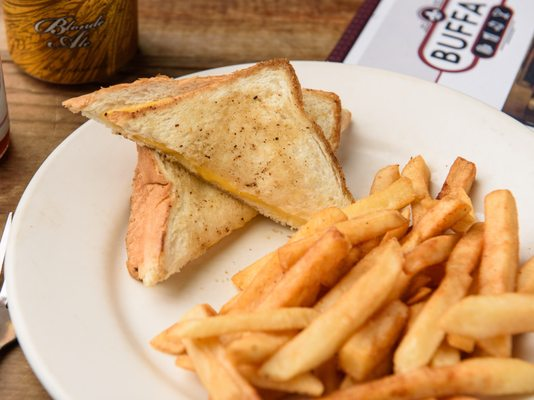pizza: (0, 0, 139, 86)
soup: (68, 58, 353, 233)
